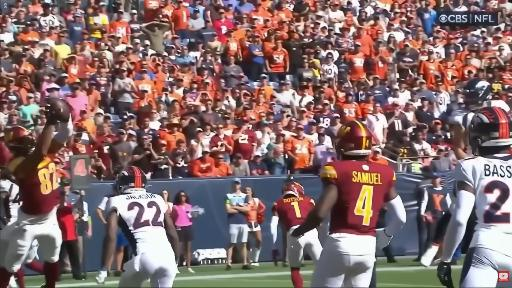Helmet: (468, 107, 511, 154), (336, 121, 373, 155), (5, 126, 35, 155), (463, 79, 491, 110), (116, 167, 147, 194), (283, 182, 304, 196)
Jersey: (454, 154, 512, 257), (321, 161, 395, 235), (106, 190, 171, 254), (8, 157, 59, 223), (273, 196, 314, 230), (0, 180, 21, 223), (449, 110, 474, 130), (450, 110, 474, 129)
Player: (292, 121, 406, 287), (0, 99, 73, 287), (438, 107, 511, 287), (96, 167, 179, 287), (271, 182, 322, 287), (450, 79, 510, 159), (450, 79, 509, 159), (0, 168, 21, 249)
